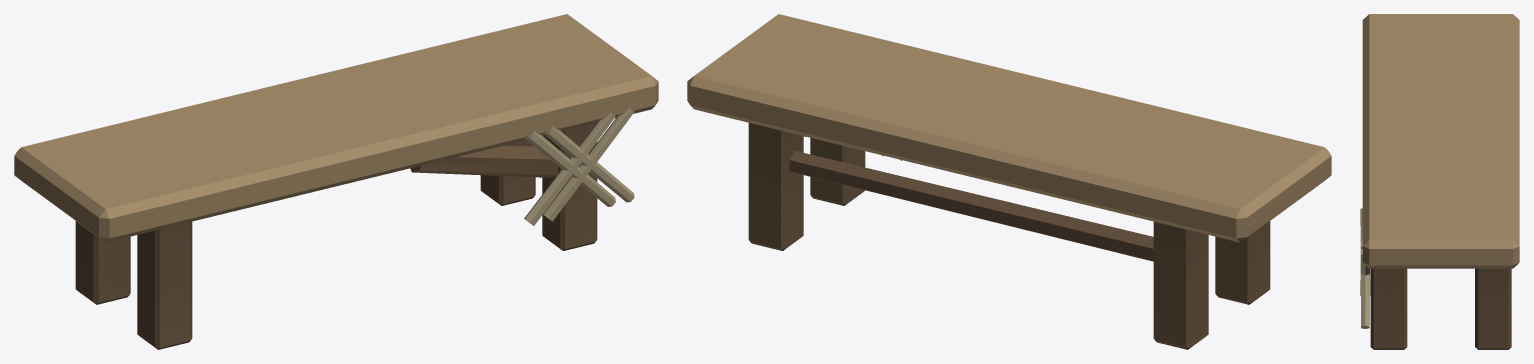
File: bench_lashed.glb
The picture shows the model from 3 angles, left to right: view 1: azimuth 30°, elevation 25°; view 2: azimuth 150°, elevation 25°; view 3: azimuth 270°, elevation 25°; orthographic projection. The views are drawn at different scales.
Visible parts, largest first — view 1: bench_lashed; view 2: bench_lashed; view 3: bench_lashed.
Part boxes in pixels (x1,y1,x2,y2): bench_lashed: (14, 14, 658, 349); bench_lashed: (687, 14, 1331, 349); bench_lashed: (1360, 14, 1519, 349).
Size of the model in its own units: 2.1 by 0.56 by 0.6091.
